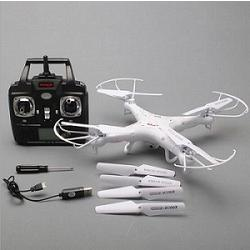drone: (54, 78, 250, 171)
